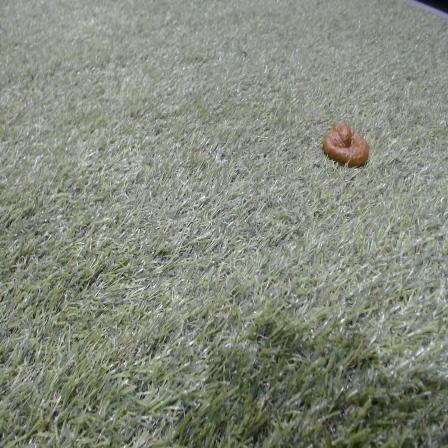dog-poop: (320, 116, 376, 171)
